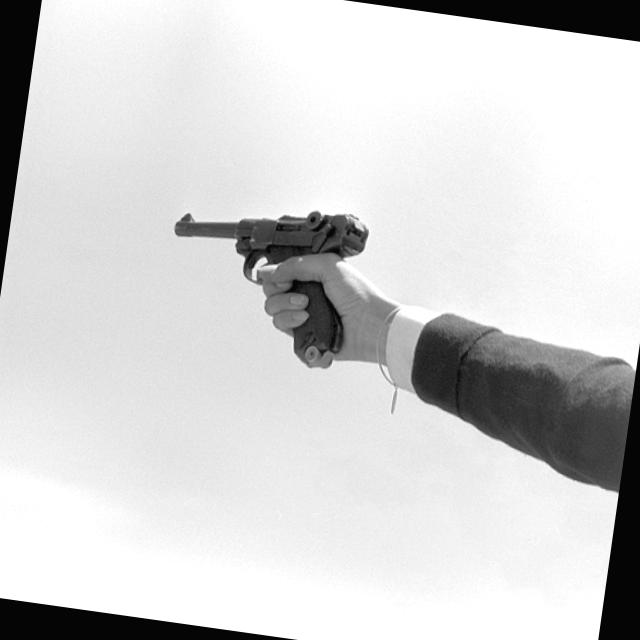handgun: (155, 186, 367, 372)
